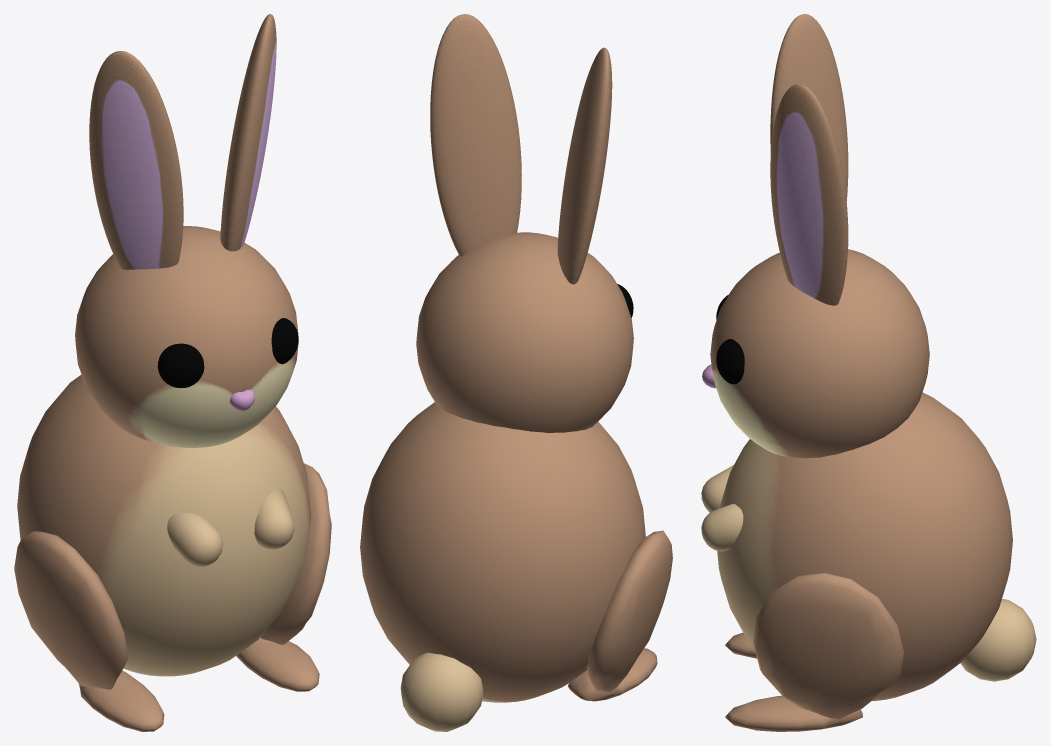
The model's file is bunny.fbx.
3 renders of one model, left to right at view 1: azimuth 30°, elevation 25°; view 2: azimuth 150°, elevation 25°; view 3: azimuth 270°, elevation 25°, orthographic. The views are drawn at different scales.
Visible parts, largest first — view 1: Sphere, Sphere.001, Roundcube.002, Roundcube.004, Cylinder, Sphere.002; view 2: Sphere, Sphere.001, Roundcube.002, Roundcube.004, Roundcube.006; view 3: Sphere, Sphere.001, Roundcube.004, Roundcube.002, Roundcube.006, Cylinder, Sphere.002.
Boxes of the visible parts, x1,y1,x2,y2 form: Sphere: [17, 374, 310, 676]; Sphere.001: [75, 226, 298, 447]; Roundcube.002: [89, 14, 276, 269]; Roundcube.004: [14, 463, 331, 731]; Cylinder: [167, 488, 294, 566]; Sphere.002: [157, 318, 298, 388]; Sphere: [360, 402, 645, 702]; Sphere.001: [416, 232, 633, 432]; Roundcube.002: [430, 14, 612, 284]; Roundcube.004: [568, 530, 672, 701]; Roundcube.006: [400, 652, 483, 731]; Sphere: [717, 392, 1012, 700]; Sphere.001: [710, 249, 929, 458]; Roundcube.004: [725, 572, 903, 731]; Roundcube.002: [770, 14, 848, 305]; Roundcube.006: [960, 599, 1036, 681]; Cylinder: [701, 465, 743, 551]; Sphere.002: [716, 295, 744, 384].
Bounding box in the file's own units: 216 × 478 × 226.
8 materials, 8 textured.
